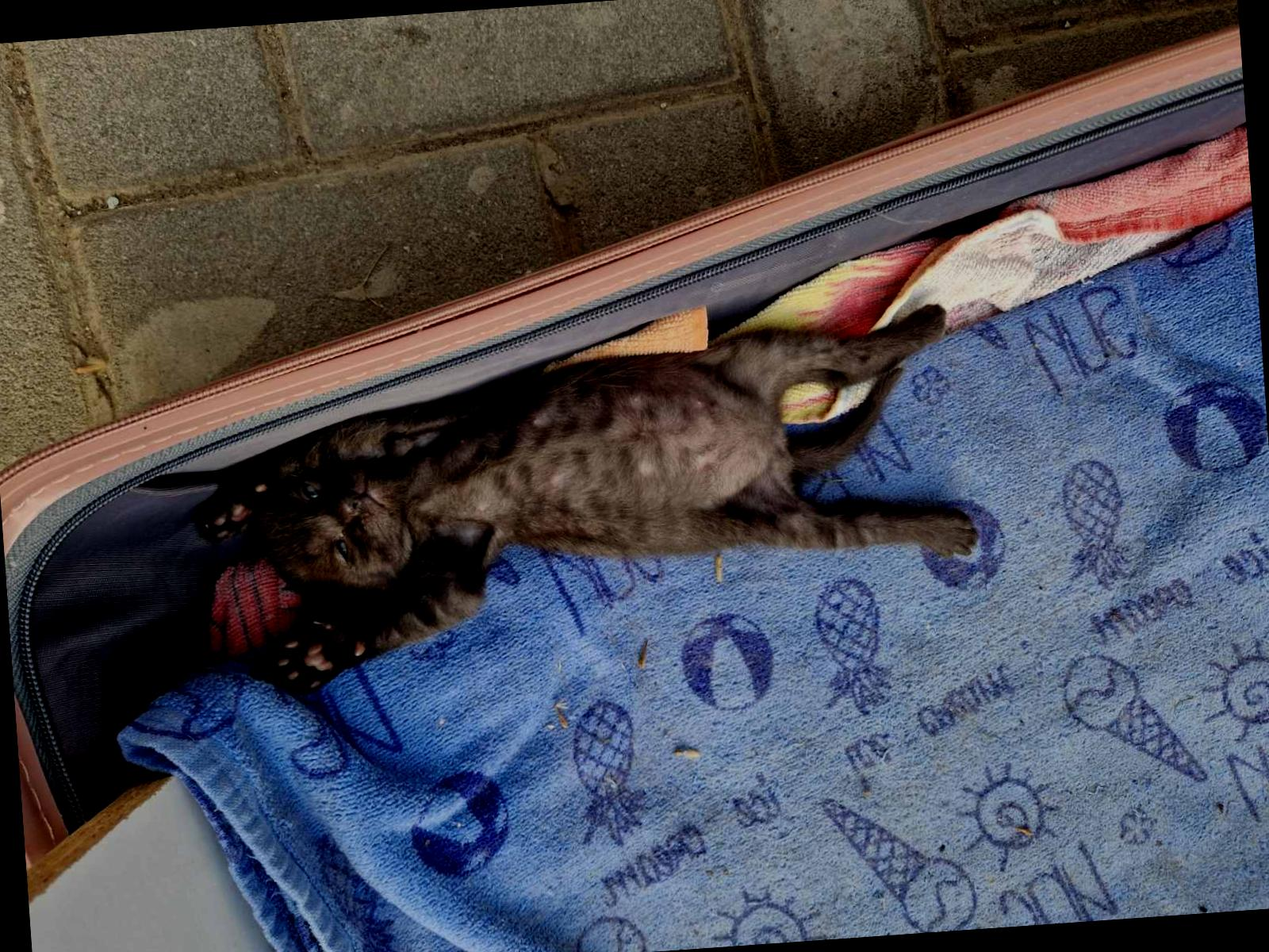macka: (171, 299, 977, 713)
